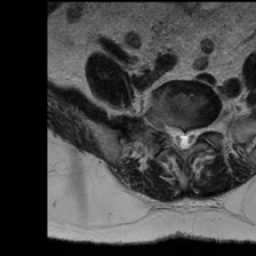CCS_normal: (179, 122, 189, 156)
LFS_stenosis: (199, 117, 208, 140)
LLS_normal: (189, 123, 198, 154)
RFS_normal: (157, 116, 169, 139)
RLS_normal: (169, 120, 179, 155)
